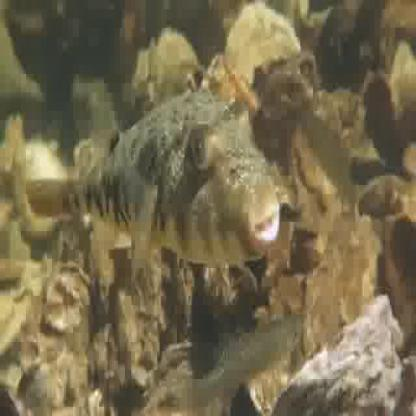Oyster- Indeterminate: (130, 342, 230, 416), (293, 131, 345, 223), (44, 260, 95, 332)
Oyster-Closed: (280, 296, 405, 416), (300, 211, 382, 355), (230, 5, 299, 76), (201, 54, 259, 113), (149, 33, 194, 103), (256, 65, 313, 118), (389, 37, 416, 144), (24, 143, 72, 202), (358, 172, 408, 217), (0, 285, 19, 350)
